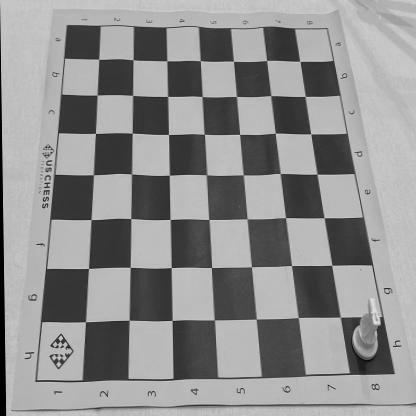white-knight: (350, 297, 381, 362)
